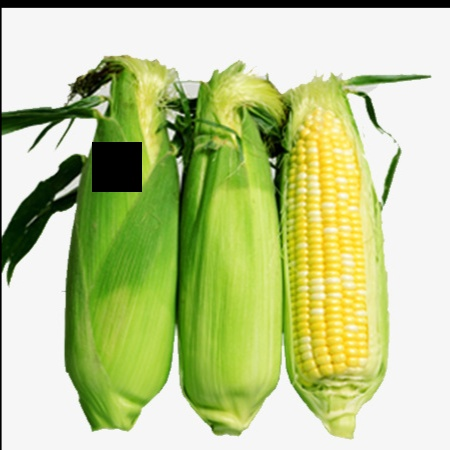corn: (280, 67, 388, 427)
corn_plant: (40, 45, 179, 432), (184, 66, 276, 425)
